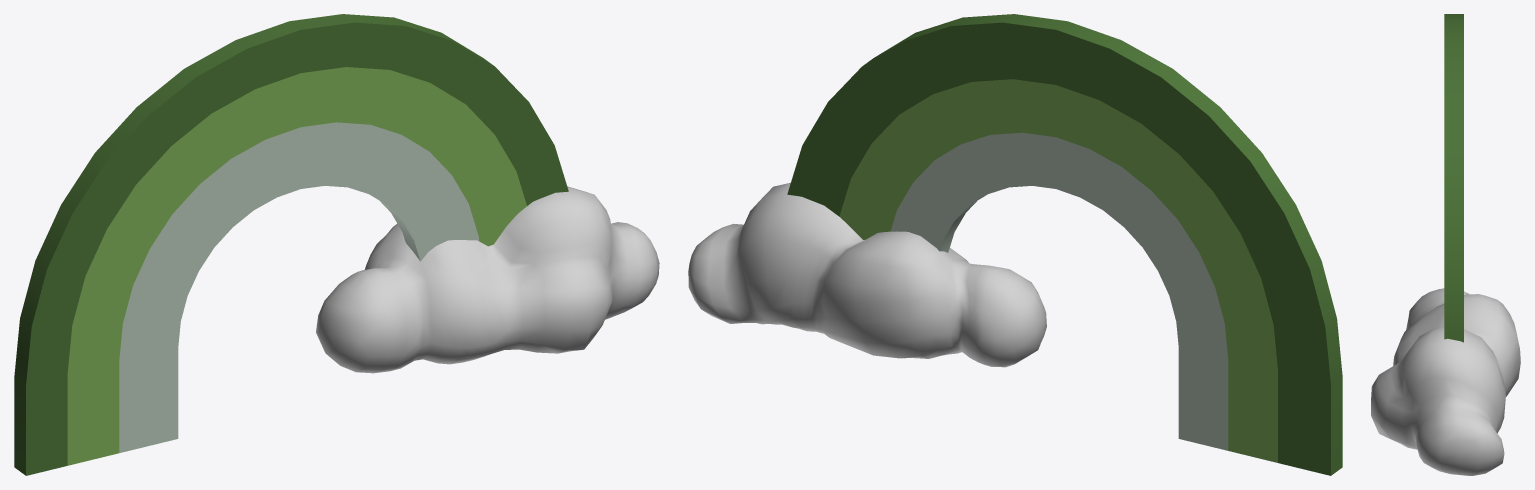
Rendered from Rainbow_04.fbx.
The picture shows the model from 3 angles, left to right: view 1: azimuth 30°, elevation 25°; view 2: azimuth 150°, elevation 25°; view 3: azimuth 270°, elevation 25°; orthographic projection. The views are drawn at different scales.
Visible parts, largest first — view 1: Rainbow_04; view 2: Rainbow_04; view 3: Rainbow_04.
Boxes of the visible parts, x1,y1,x2,y2 form: Rainbow_04: (14,14,659,475); Rainbow_04: (688,14,1342,475); Rainbow_04: (1371,14,1520,475).
Bounding box in the file's own units: 0.7895 × 0.4511 × 0.1922.
